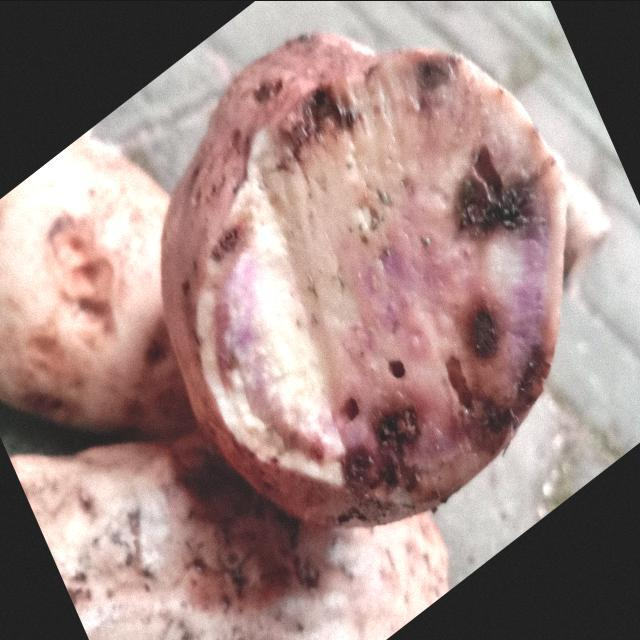Sick Sweet Potato_Tuber Rot: (162, 33, 608, 523)
